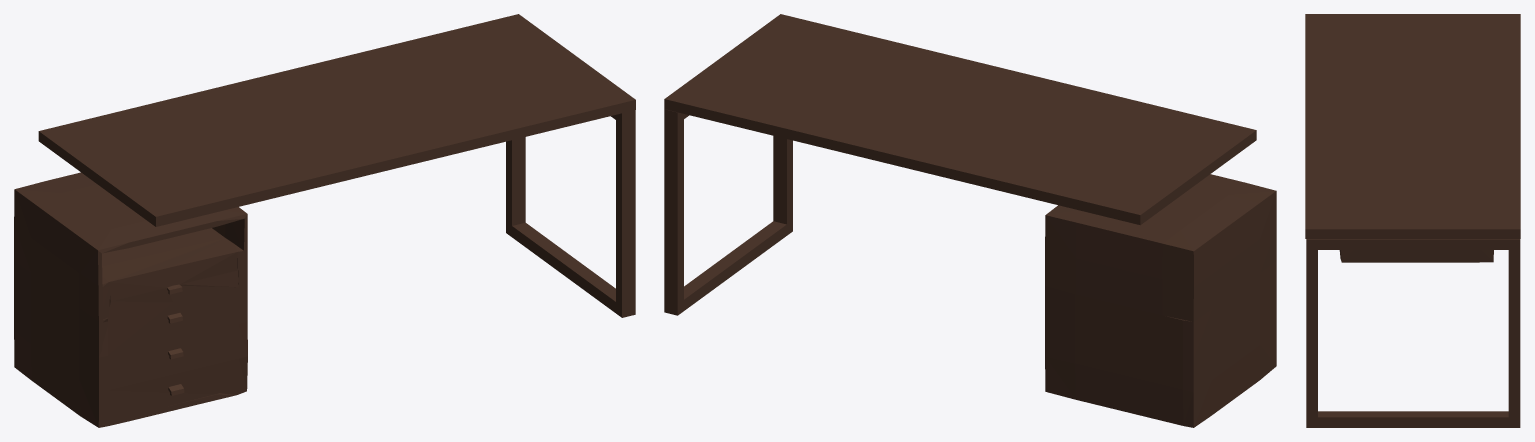
Rendered from desk.obj.
3 views of the same model, side by side, from view 1: azimuth 30°, elevation 25°; view 2: azimuth 150°, elevation 25°; view 3: azimuth 270°, elevation 25° (orthographic). The views are drawn at different scales.
Visible parts, largest first — view 1: Cube_001, Cube, Cube_003; view 2: Cube_001, Cube, Cube_003; view 3: Cube_001, Cube_003, Cube.
Boxes of the visible parts, x1,y1,x2,y2 form: Cube_001: (38,14,635,226); Cube: (14,172,247,427); Cube_003: (506,110,635,317); Cube_001: (664,14,1256,225); Cube: (1045,174,1276,427); Cube_003: (664,109,792,315); Cube_001: (1305,14,1520,238); Cube_003: (1306,239,1520,427); Cube: (1339,250,1493,262).
Size of the model in its own units: 5.65 by 2.25 by 2.2.
Materials: 1 (1 with a texture image).
